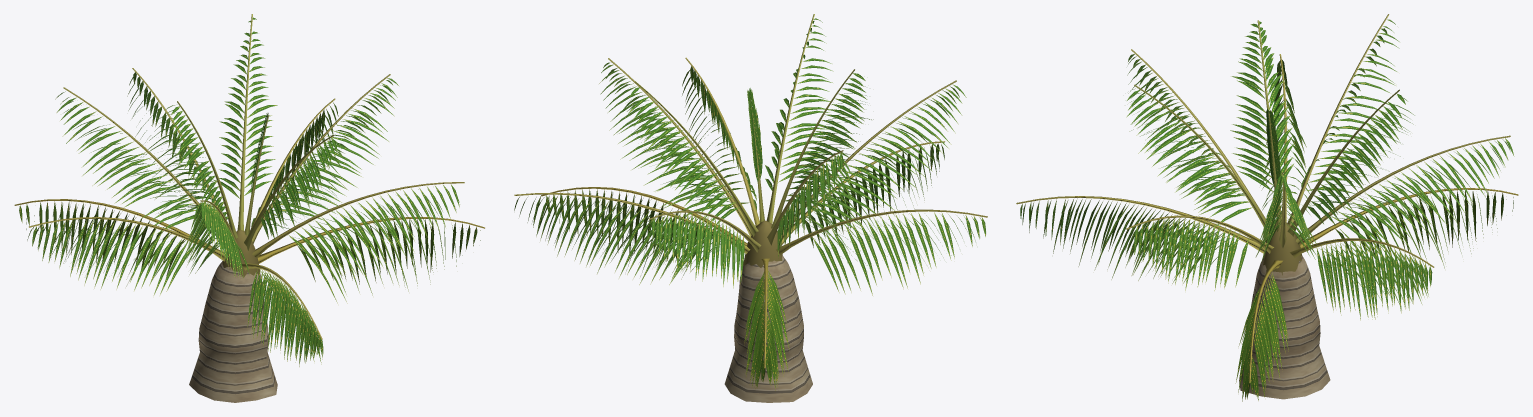
3 views of the same model, side by side, from view 1: azimuth 30°, elevation 25°; view 2: azimuth 150°, elevation 25°; view 3: azimuth 270°, elevation 25° (orthographic). The views are drawn at different scales.
Parts seen in each view (by area): view 1: fronds, trunk, crown_husk; view 2: fronds, trunk, crown_husk; view 3: fronds, trunk, crown_husk.
Boxes of the visible parts, bbox=[...] form: fronds: bbox=[14, 14, 484, 366]; trunk: bbox=[189, 261, 277, 402]; crown_husk: bbox=[222, 230, 260, 277]; fronds: bbox=[514, 14, 987, 390]; trunk: bbox=[724, 255, 812, 402]; crown_husk: bbox=[743, 220, 782, 267]; fronds: bbox=[1016, 14, 1518, 401]; trunk: bbox=[1239, 255, 1330, 399]; crown_husk: bbox=[1263, 221, 1301, 275].
Size of the model in its own units: 6.34 by 4.34 by 5.96.
Materials: 3 (3 with a texture image).
